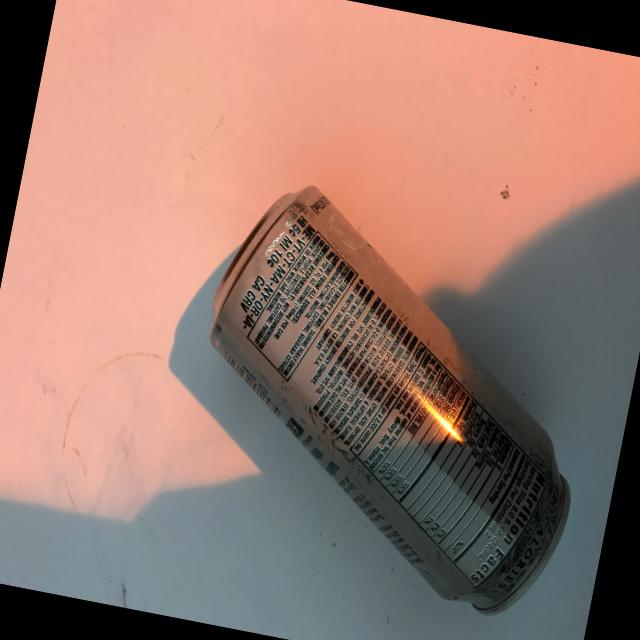Metal: (155, 147, 630, 640)
